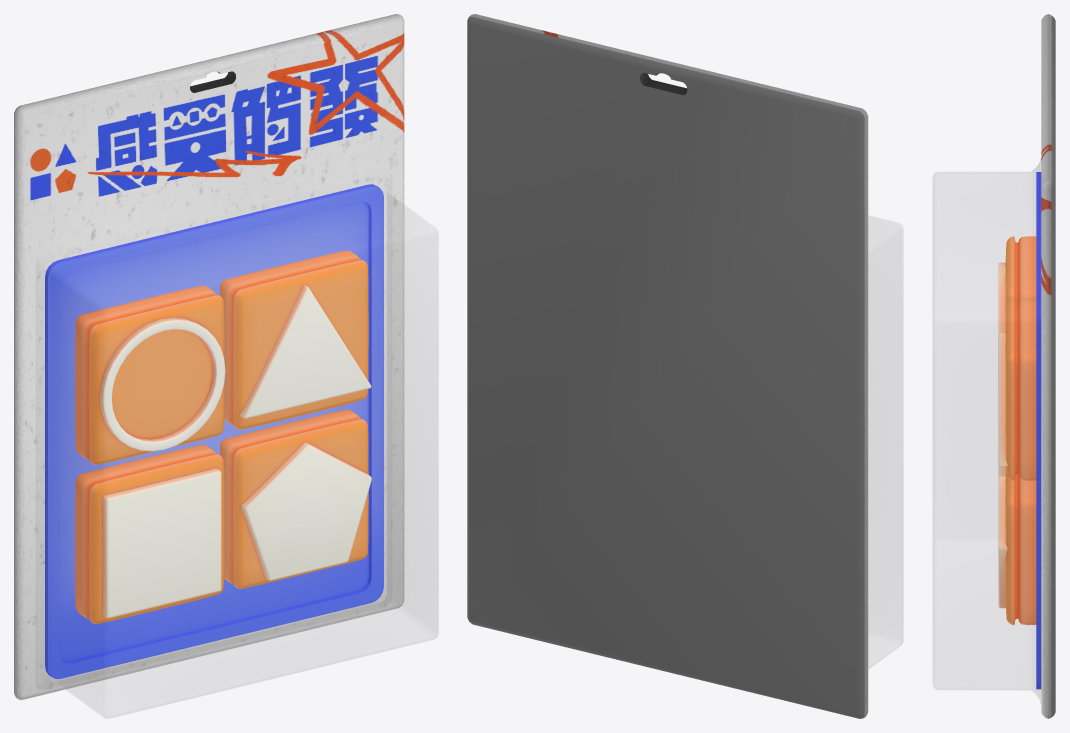
Rendered from ALLproduct_base.glb.
3 renders of one model, left to right at view 1: azimuth 30°, elevation 25°; view 2: azimuth 150°, elevation 25°; view 3: azimuth 270°, elevation 25°, orthographic. The views are drawn at different scales.
Parts seen in each view (by area): view 1: 背板_工作區域 1.002, 背板_工作區域 1.003, Cube.011, Cube.001, Cube.003, Cube.002, Cylinder.005, Cube.007, Cube.005, Cylinder.003, Sphere.001; view 2: 背板_工作區域 1.002, Cube.011; view 3: Cube.011, 背板_工作區域 1.002, Cube.002, Cube.007, 背板_工作區域 1.003, Cube.001, Cylinder.003, Cylinder.005, Sphere.001.
Part boxes in pixels (x1,y1,x2,y2): 背板_工作區域 1.002: (14,14,404,699); 背板_工作區域 1.003: (45,184,383,678); Cube.011: (36,174,438,718); Cube.001: (75,285,224,464); Cube.003: (102,468,221,618); Cube.002: (219,250,368,429); Cylinder.005: (241,442,371,580); Cube.007: (219,409,368,588); Cube.005: (75,445,224,623); Cylinder.003: (239,285,371,418); Sphere.001: (99,317,225,451); 背板_工作區域 1.002: (467,14,868,718); Cube.011: (868,216,903,668); Cube.011: (933,160,1040,702); 背板_工作區域 1.002: (1041,14,1055,718); Cube.002: (1005,300,1036,480); Cube.007: (1005,467,1036,625); 背板_工作區域 1.003: (1036,172,1041,689); Cube.001: (1005,236,1036,318); Cylinder.003: (998,333,1007,466); Cylinder.005: (998,476,1007,608); Sphere.001: (998,262,1005,335).
Size of the model in its own units: 3.41 by 4.97 by 1.03.
7 materials, 7 textured.
